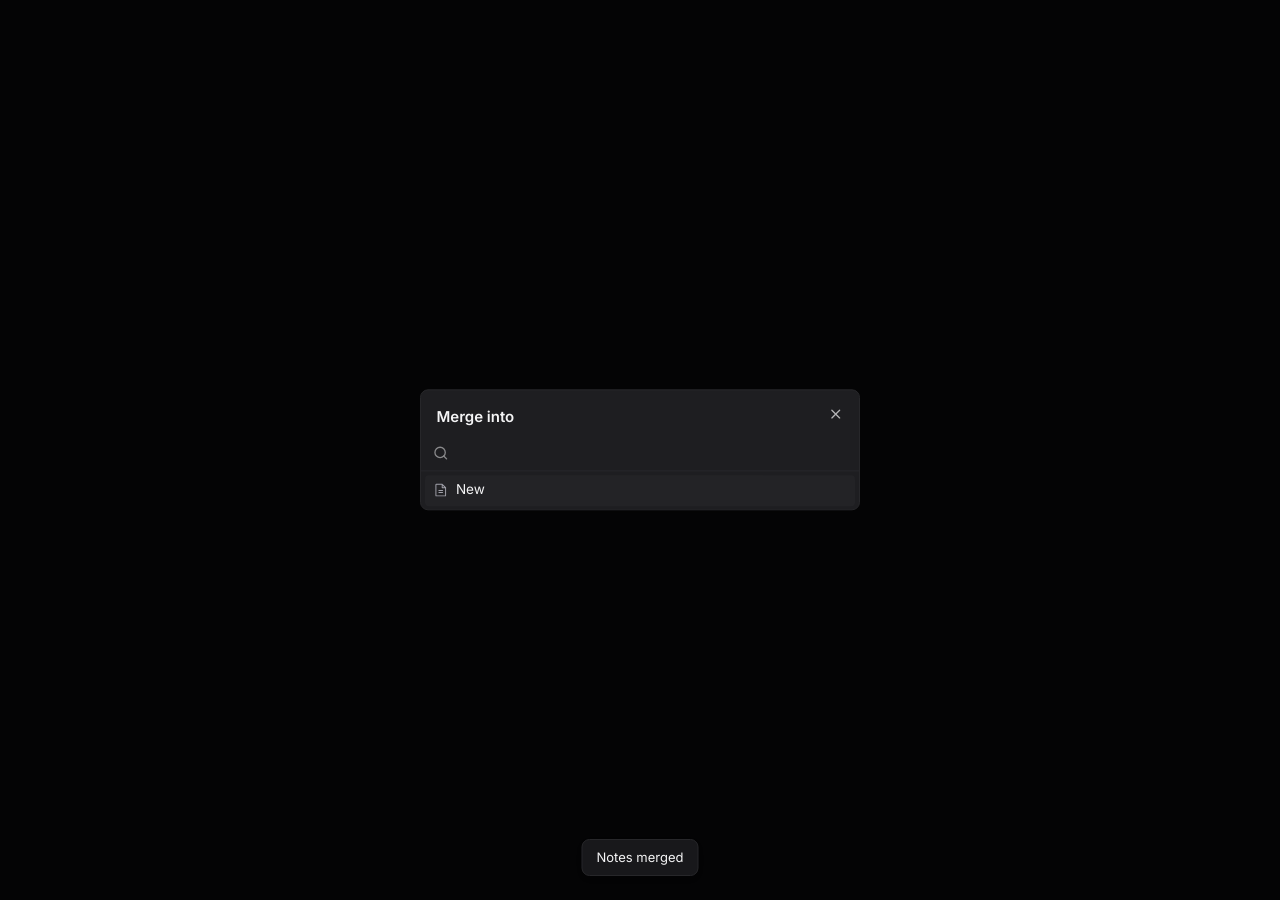
Scenario: MergeDialog › tag confirm uses the tag strings
Step 1. Click the option "New" → (440, 490), box x1=425 y1=475 x2=855 y2=506
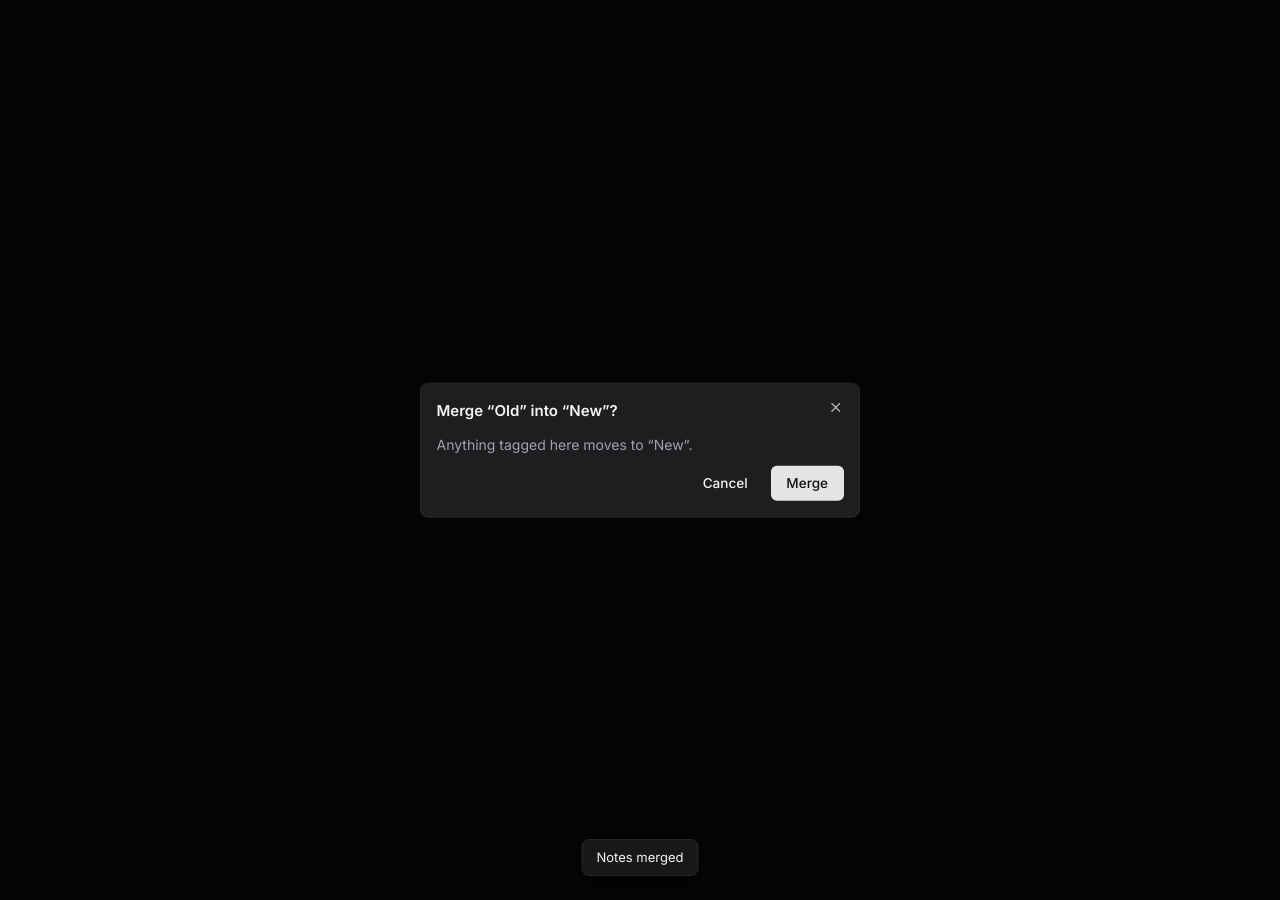
Expected: the text "Anything tagged here moves to “New”." is shown, x1=436 y1=435 x2=692 y2=452
Step 2. Click the button "Merge" → (807, 483), box x1=771 y1=466 x2=844 y2=501
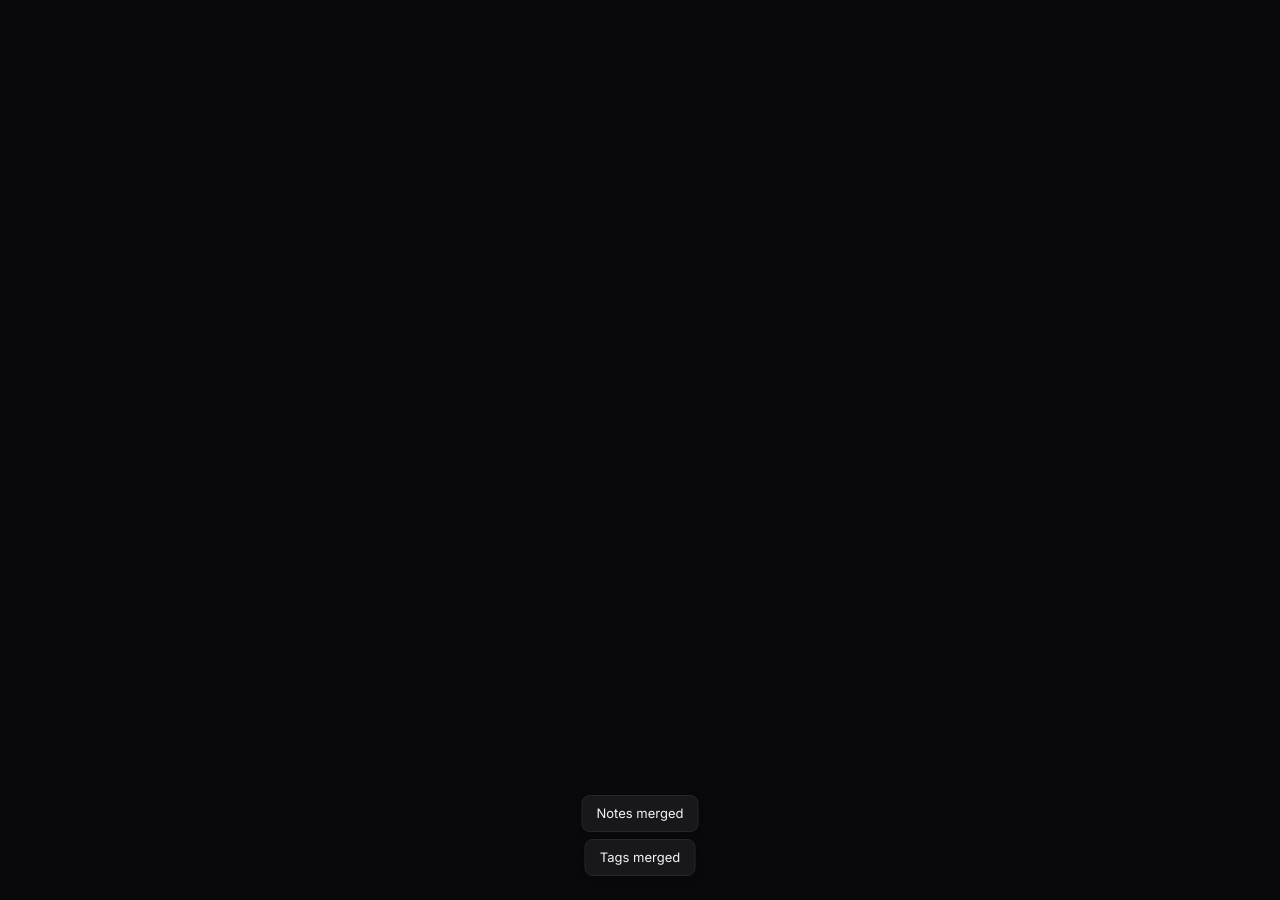
Expected: the element showing "Notes merged Tags merged" is shown, x1=582 y1=795 x2=698 y2=876
